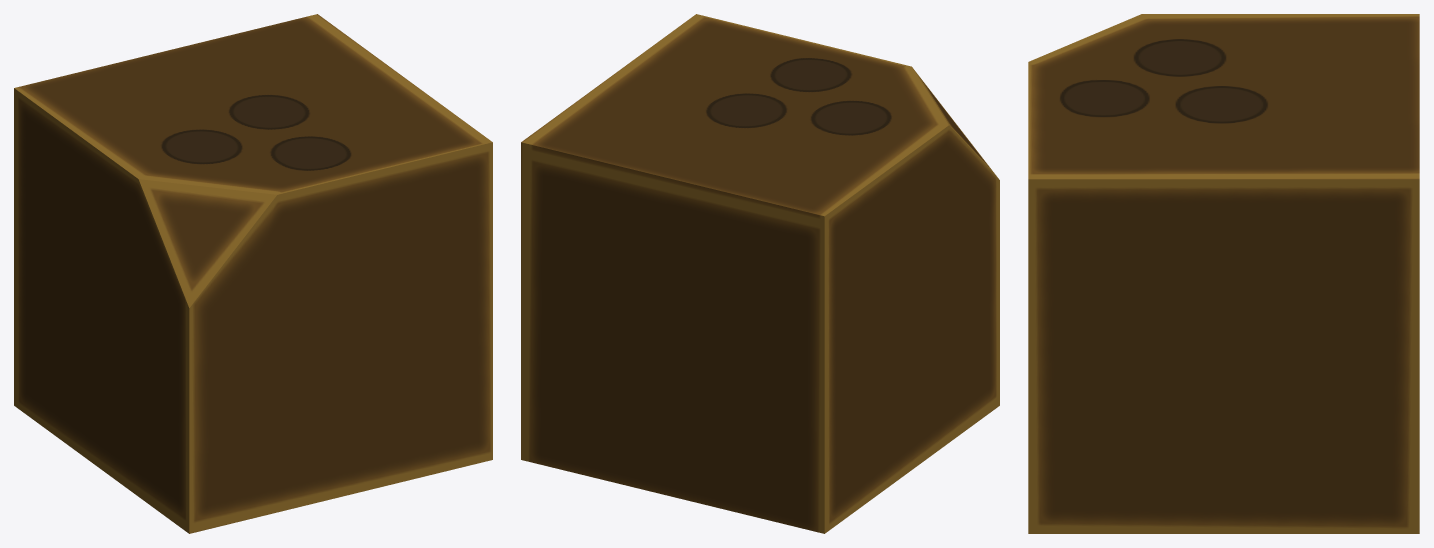
The model's file is Coconut01.fbx.
3 views of the same model, side by side, from view 1: azimuth 30°, elevation 25°; view 2: azimuth 150°, elevation 25°; view 3: azimuth 270°, elevation 25° (orthographic). The views are drawn at different scales.
Visible parts, largest first — view 1: Coconut01; view 2: Coconut01; view 3: Coconut01.
Boxes of the visible parts, x1,y1,x2,y2 form: Coconut01: (14,14,492,533); Coconut01: (521,14,999,533); Coconut01: (1028,14,1419,533).
Size of the model in its own units: 7.16 by 7.16 by 7.16.
